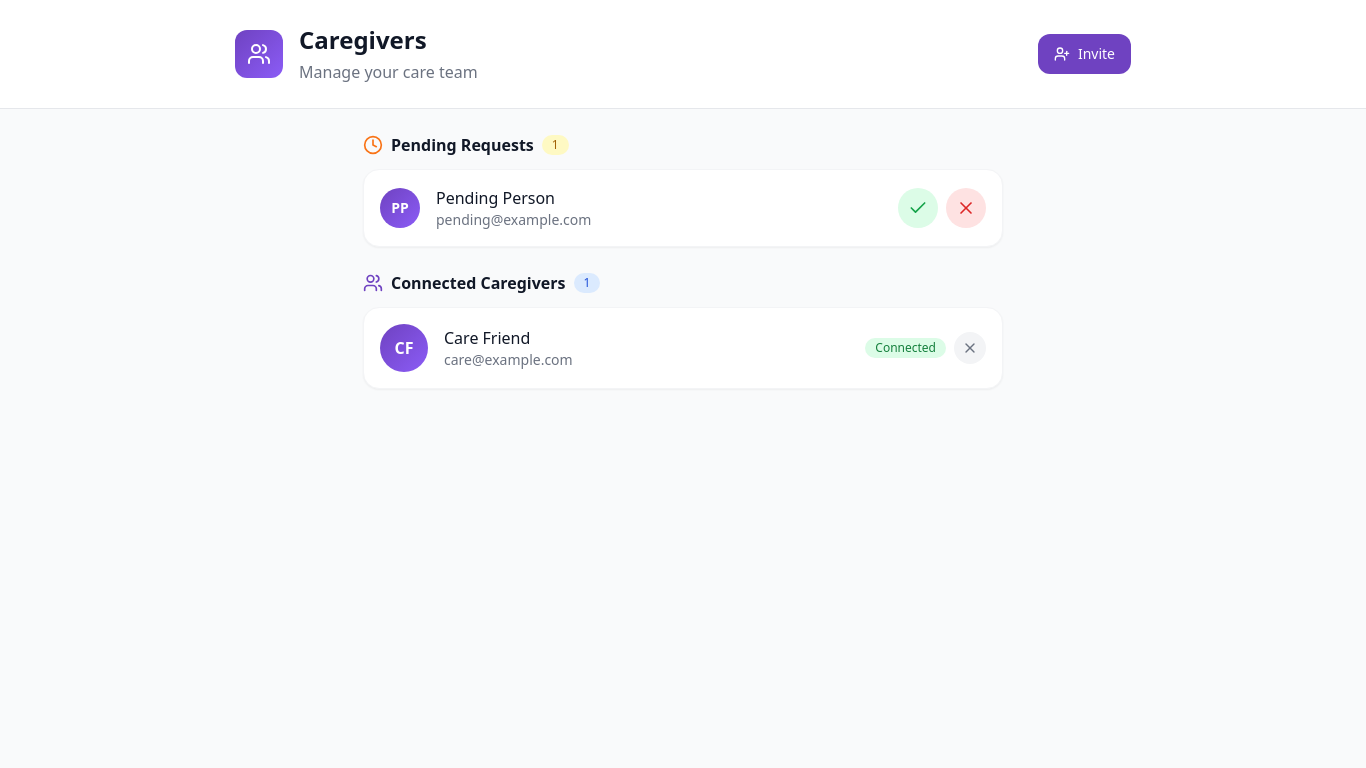
Scenario: page interactions › caregivers page shows list and invite form
Expected: the text "Care Friend" is shown, [444,327,530,349]
Click the button "Invite" at (1084, 54), box [1038,34,1131,74]
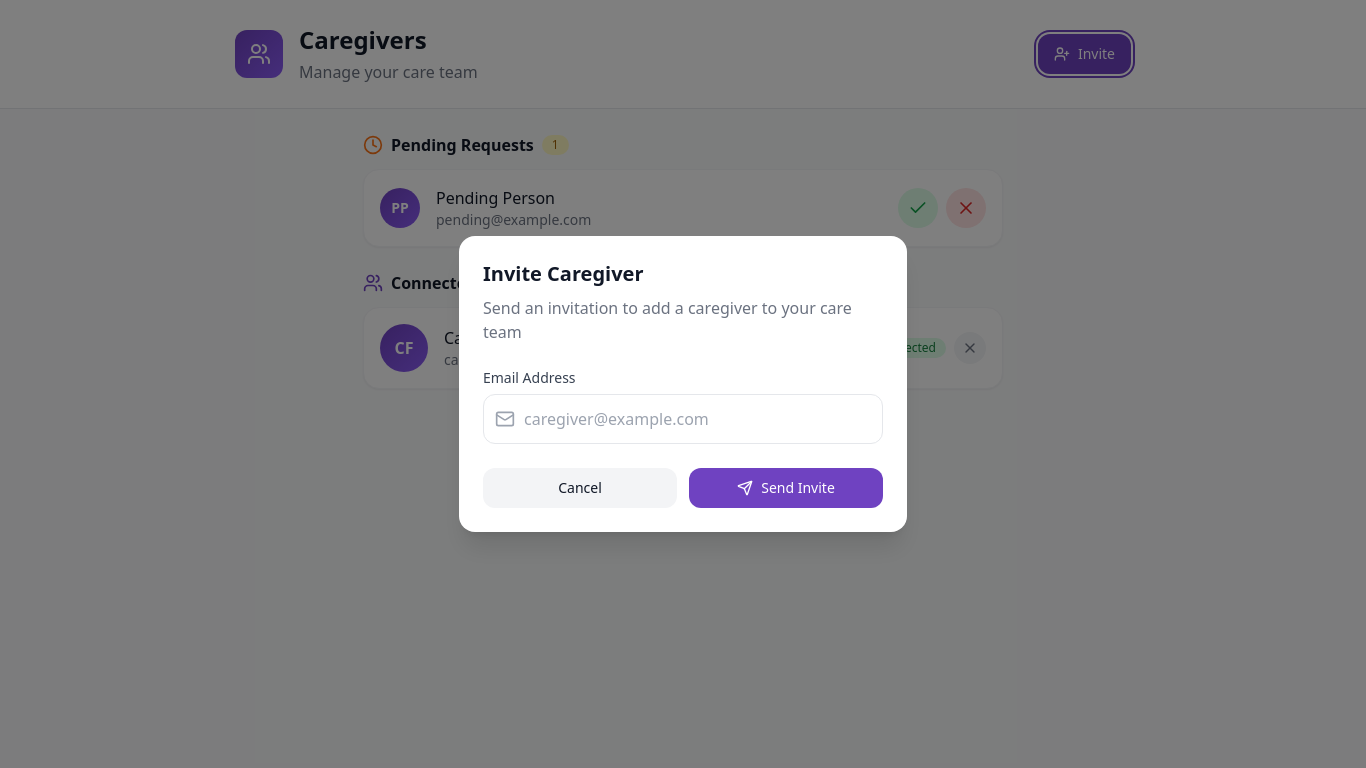
Result: the field with placeholder "caregiver@example.com" is shown at [483,394,883,444]
